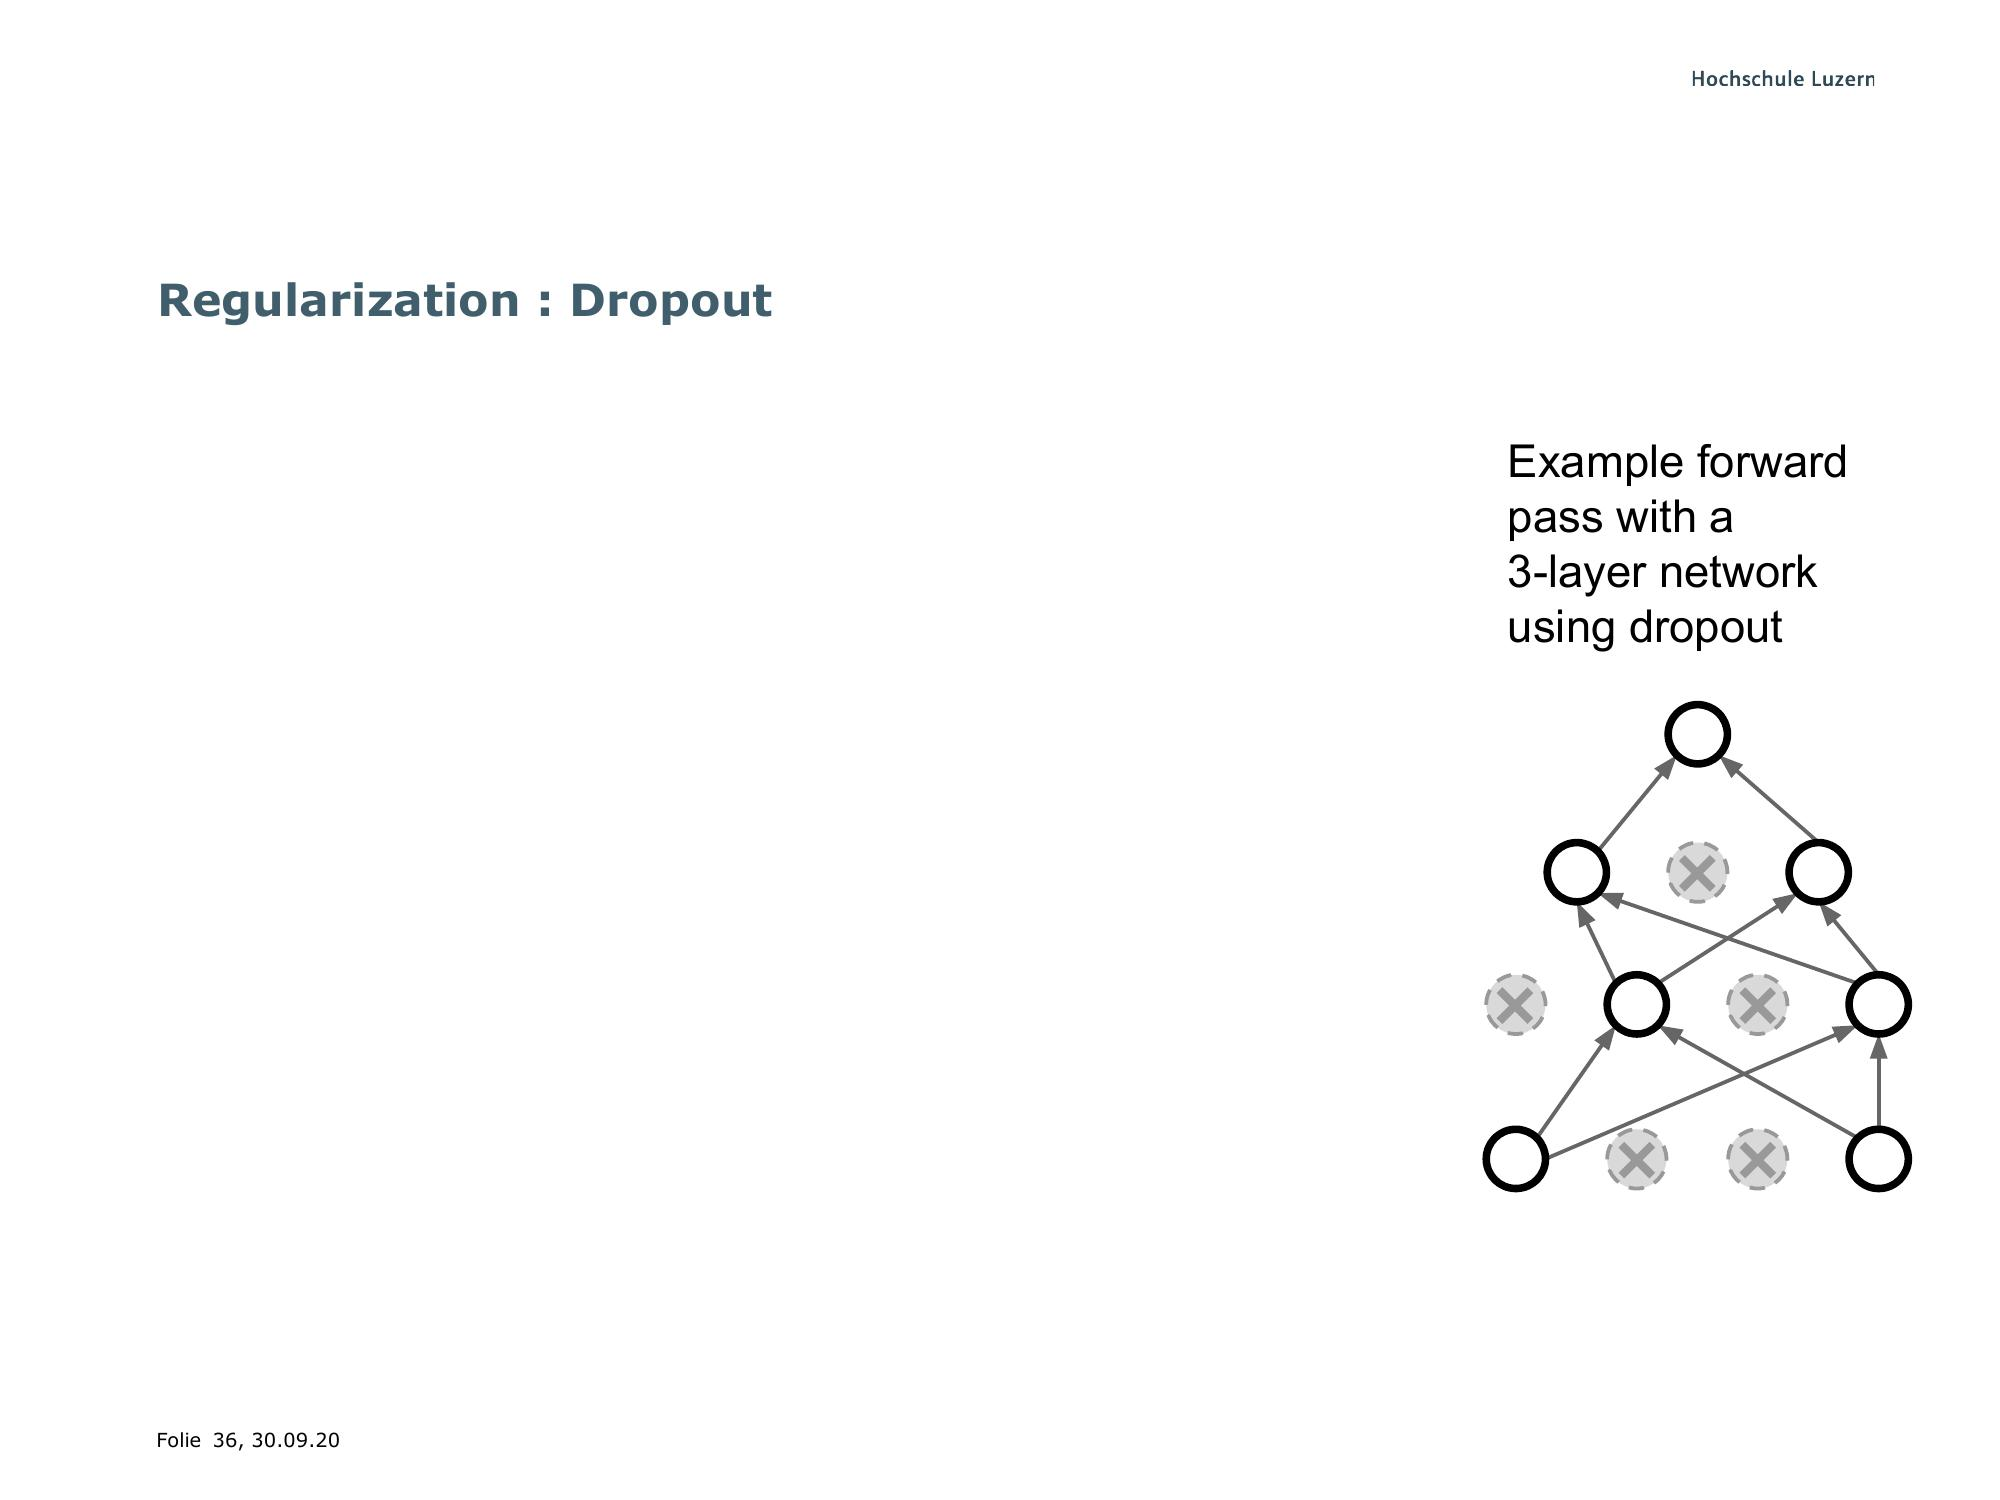Title: (146, 249, 795, 342)
